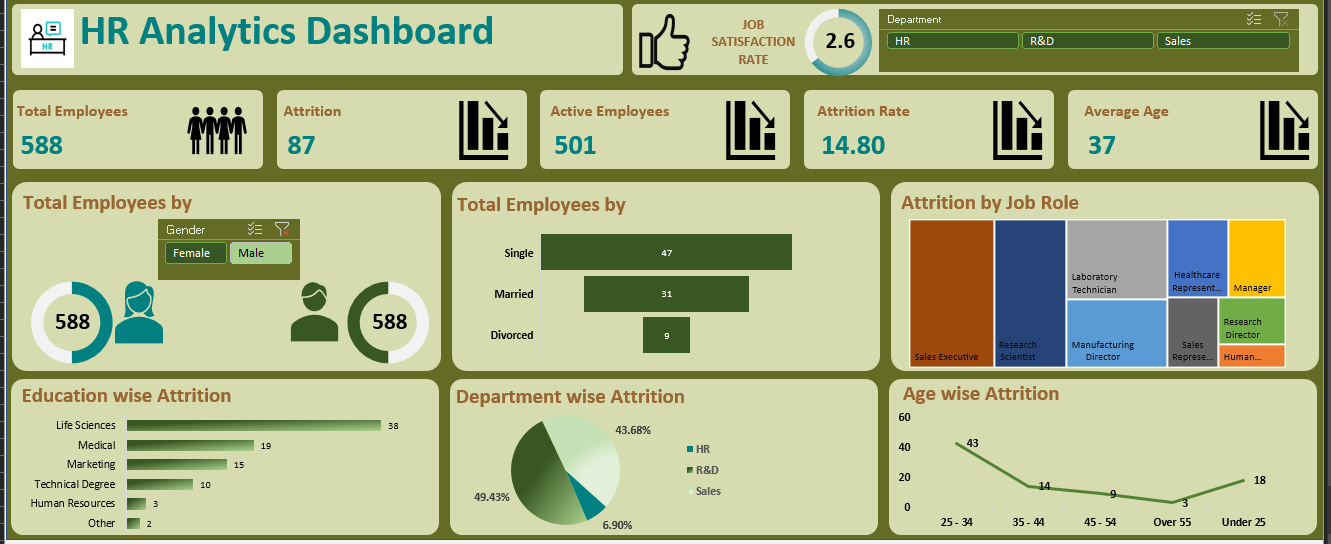

The dashboard page shown, as its layout file describes it:
{"tool":"powerbi","page":{"name":"Page 1","canvas":[1280,720],"ordinal":0},"visuals":[{"type":"shape","box":[0,84.4,250,128.8],"z":0,"group":"g2"},{"type":"shape","box":[426.8,471.1,853.2,248.9],"z":0},{"type":"shape","box":[0,0,1280.6,720.8],"z":1000},{"type":"shape","box":[257.5,84.4,250,128.8],"z":1000,"group":"g2"},{"type":"shape","box":[4.3,4.3,591.5,70.2],"z":2000},{"type":"shape","box":[515,85.4,250,126.9],"z":2000,"group":"g2"},{"type":"shape","box":[0,221.3,419.3,238.3],"z":2000,"group":"g1"},{"type":"shape","box":[773.1,86.3,250,126.9],"z":3000,"group":"g2"},{"type":"shape","box":[0,470.2,419.1,248.9],"z":3000},{"type":"group","id":"g1","title":"Group 2","box":[0,221.3,1280.9,238.3],"z":4000},{"type":"shape","box":[432.2,221.3,417.3,238.3],"z":4000,"group":"g1"},{"type":"shape","box":[861.4,221.3,419.4,238.3],"z":5000,"group":"g1"},{"type":"shape","box":[425.5,470.2,853.2,248.9],"z":5000},{"type":"textbox","box":[0,0.8,610.6,70.2],"z":6000},{"type":"group","id":"g2","title":"Group 1","box":[0,84.4,1280,128.8],"z":7000},{"type":"card","fields":{"Values":["allmeasures.Overall Employees"]},"box":[28.8,123,192.3,90.4],"z":7000,"group":"g3"},{"type":"card","fields":{"Values":["allmeasures.Attrition"]},"box":[286.5,123,192.3,90.4],"z":7000,"group":"g4"},{"type":"card","fields":{"Values":["allmeasures.Attrition Rate"]},"box":[546.2,124.8,201.9,90.4],"z":7000,"group":"g5"},{"type":"card","fields":{"Values":["allmeasures.Active Employee"]},"box":[803.8,124.8,192.3,90.4],"z":7000,"group":"g6"},{"type":"card","fields":{"Values":["allmeasures.Average Age"]},"box":[1058.1,124.8,192.3,90.4],"z":7000,"group":"g7"},{"type":"shape","box":[1030,86.3,250,126.9],"z":7001,"group":"g2"},{"type":"group","id":"g3","title":"Group 3","box":[0,86.5,250,126.9],"z":8000},{"type":"textbox","box":[0,86.5,250,51.9],"z":8000,"group":"g3"},{"type":"textbox","box":[257.7,86.5,250,51.9],"z":8000,"group":"g4"},{"type":"textbox","box":[515.4,88.3,250,51.9],"z":8000,"group":"g5"},{"type":"textbox","box":[775,88.3,250,51.9],"z":8000,"group":"g6"},{"type":"textbox","box":[1029.3,88.3,250,51.9],"z":8000,"group":"g7"},{"type":"group","id":"g4","title":"Group 3","box":[257.7,86.5,250,126.9],"z":9000},{"type":"textbox","box":[444.4,222.9,395.7,54.1],"z":9000,"group":"g8"},{"type":"textbox","box":[862.1,224.1,299,53.7],"z":9000,"group":"g9"},{"type":"textbox","box":[22.2,470.6,361.2,53.1],"z":9000,"group":"g10"},{"type":"textbox","box":[422.9,502.1,184.7,51.4],"z":9000,"group":"g11"},{"type":"textbox","box":[590.5,502.1,184.7,51.4],"z":9000,"group":"g12"},{"type":"textbox","box":[758,503.5,184.7,51.4],"z":9000,"group":"g13"},{"type":"textbox","box":[925.6,503.5,184.7,51.4],"z":9000,"group":"g14"},{"type":"textbox","box":[1092.9,509.4,184.7,51.4],"z":9000,"group":"g15"},{"type":"group","id":"g5","title":"Group 3","box":[515.4,88.3,250,126.9],"z":10000},{"type":"textbox","box":[9.8,223.5,396.1,54.9],"z":11000},{"type":"group","id":"g6","title":"Group 3","box":[775,88.3,250,126.9],"z":12000},{"type":"group","id":"g7","title":"Group 3","box":[1029.3,88.3,250,126.9],"z":13000},{"type":"pivotTable","fields":{"Rows":["HR Data xlsx - HR data.Job Role"],"Columns":["HR Data xlsx - HR data.Job Satisfaction"],"Values":["Sum(HR Data xlsx - HR data.Job Satisfaction)"]},"box":[869.4,255.1,409.9,203.5],"z":13000,"group":"g9"},{"type":"columnChart","fields":{"Category":["HR Data xlsx - HR data.CF_age band"],"Y":["allmeasures.Overall Employees"],"Series":["HR Data xlsx - HR data.Gender"]},"box":[444.4,268.6,410.9,191.1],"z":13000,"group":"g8"},{"type":"barChart","fields":{"Category":["HR Data xlsx - HR data.Education Field"],"Y":["allmeasures.Attrition"]},"box":[6.1,508.2,414.3,208.2],"z":13000,"group":"g10"},{"type":"donutChart","fields":{"Category":["HR Data xlsx - HR data.Gender"],"Y":["allmeasures.Attrition"]},"box":[427,545.8,180.4,168.6],"z":13000,"group":"g11"},{"type":"donutChart","fields":{"Category":["HR Data xlsx - HR data.Gender"],"Y":["allmeasures.Attrition"]},"box":[594.6,545.8,180.4,168.6],"z":13000,"group":"g12"},{"type":"donutChart","fields":{"Category":["HR Data xlsx - HR data.Gender"],"Y":["allmeasures.Attrition"]},"box":[762.1,545.8,180.4,168.6],"z":13000,"group":"g13"},{"type":"donutChart","fields":{"Category":["HR Data xlsx - HR data.Gender"],"Y":["allmeasures.Attrition"]},"box":[929.7,545.8,180.4,168.6],"z":13000,"group":"g14"},{"type":"donutChart","fields":{"Category":["HR Data xlsx - HR data.Gender"],"Y":["allmeasures.Attrition"]},"box":[1097,551.7,180.4,168.6],"z":13000,"group":"g15"},{"type":"group","id":"g8","title":"Group 4","box":[444.4,222.9,410.9,236.7],"z":14000},{"type":"pieChart","fields":{"Y":["allmeasures.Attrition"],"Category":["HR Data xlsx - HR data.Department"]},"box":[5.9,251,413.7,207.8],"z":15000},{"type":"group","id":"g9","title":"Group 4","box":[862.1,224.1,417.2,234.5],"z":16000},{"type":"group","id":"g10","title":"Group 4","box":[6.1,470.6,414.3,245.8],"z":17000},{"type":"group","id":"g11","title":"Group 5","box":[422.9,502.1,184.7,212.3],"z":18000,"group":"g16"},{"type":"group","id":"g12","title":"Group 5","box":[590.5,502.1,184.7,212.3],"z":19000,"group":"g16"},{"type":"card","fields":{"Values":["allmeasures.Attrition"]},"box":[467.4,588.1,96.1,76.5],"z":19000,"group":"g11"},{"type":"card","fields":{"Values":["allmeasures.Attrition"]},"box":[635,588.1,96.1,76.5],"z":19000,"group":"g12"},{"type":"card","fields":{"Values":["allmeasures.Attrition"]},"box":[802.5,588.1,96.1,76.5],"z":19000,"group":"g13"},{"type":"card","fields":{"Values":["allmeasures.Attrition"]},"box":[970.1,588.1,96.1,76.5],"z":19000,"group":"g14"},{"type":"card","fields":{"Values":["allmeasures.Attrition"]},"box":[1137.4,594,96.1,76.5],"z":19000,"group":"g15"},{"type":"group","id":"g13","title":"Group 5","box":[758,503.5,184.7,210.9],"z":20000,"group":"g16"},{"type":"group","id":"g14","title":"Group 5","box":[925.6,503.5,184.7,210.9],"z":21000,"group":"g16"},{"type":"group","id":"g15","title":"Group 5","box":[1092.9,509.4,184.7,210.9],"z":22000,"group":"g16"},{"type":"group","id":"g16","title":"Group 6","box":[422.9,502.1,854.7,218.2],"z":22001},{"type":"textbox","box":[563.5,467.3,563.5,55.8],"z":22002},{"type":"slicer","fields":{"Values":["HR Data xlsx - HR data.Education"]},"box":[611.5,1.9,661.5,70],"z":22003}]}

Visuals, with their boxes on the page's 1280x720 design canvas (x1, y1, x2, y2). These are canvas units, not pixel positions in the 1331x544 screenshot, which may show the page scaled, cropped or inside an application window:
shape: pyautogui.locateOnScreen(0, 84, 250, 213)
shape: pyautogui.locateOnScreen(427, 471, 1280, 720)
shape: pyautogui.locateOnScreen(0, 0, 1281, 721)
shape: pyautogui.locateOnScreen(258, 84, 508, 213)
shape: pyautogui.locateOnScreen(4, 4, 596, 74)
shape: pyautogui.locateOnScreen(515, 85, 765, 212)
shape: pyautogui.locateOnScreen(0, 221, 419, 460)
shape: pyautogui.locateOnScreen(773, 86, 1023, 213)
shape: pyautogui.locateOnScreen(0, 470, 419, 719)
"Group 2" group: pyautogui.locateOnScreen(0, 221, 1281, 460)
shape: pyautogui.locateOnScreen(432, 221, 850, 460)
shape: pyautogui.locateOnScreen(861, 221, 1281, 460)
shape: pyautogui.locateOnScreen(426, 470, 1279, 719)
textbox: pyautogui.locateOnScreen(0, 1, 611, 71)
"Group 1" group: pyautogui.locateOnScreen(0, 84, 1280, 213)
card - allmeasures.Overall Employees: pyautogui.locateOnScreen(29, 123, 221, 213)
card - allmeasures.Attrition: pyautogui.locateOnScreen(286, 123, 479, 213)
card - allmeasures.Attrition Rate: pyautogui.locateOnScreen(546, 125, 748, 215)
card - allmeasures.Active Employee: pyautogui.locateOnScreen(804, 125, 996, 215)
card - allmeasures.Average Age: pyautogui.locateOnScreen(1058, 125, 1250, 215)
shape: pyautogui.locateOnScreen(1030, 86, 1280, 213)
"Group 3" group: pyautogui.locateOnScreen(0, 86, 250, 213)
textbox: pyautogui.locateOnScreen(0, 86, 250, 138)
textbox: pyautogui.locateOnScreen(258, 86, 508, 138)
textbox: pyautogui.locateOnScreen(515, 88, 765, 140)
textbox: pyautogui.locateOnScreen(775, 88, 1025, 140)
textbox: pyautogui.locateOnScreen(1029, 88, 1279, 140)
"Group 3" group: pyautogui.locateOnScreen(258, 86, 508, 213)
textbox: pyautogui.locateOnScreen(444, 223, 840, 277)
textbox: pyautogui.locateOnScreen(862, 224, 1161, 278)
textbox: pyautogui.locateOnScreen(22, 471, 383, 524)
textbox: pyautogui.locateOnScreen(423, 502, 608, 554)
textbox: pyautogui.locateOnScreen(590, 502, 775, 554)
textbox: pyautogui.locateOnScreen(758, 504, 943, 555)
textbox: pyautogui.locateOnScreen(926, 504, 1110, 555)
textbox: pyautogui.locateOnScreen(1093, 509, 1278, 561)
"Group 3" group: pyautogui.locateOnScreen(515, 88, 765, 215)
textbox: pyautogui.locateOnScreen(10, 224, 406, 278)
"Group 3" group: pyautogui.locateOnScreen(775, 88, 1025, 215)
"Group 3" group: pyautogui.locateOnScreen(1029, 88, 1279, 215)
pivotTable - HR Data xlsx - HR data.Job Role x HR Data xlsx - HR data.Job Satisfaction: pyautogui.locateOnScreen(869, 255, 1279, 459)
columnChart - HR Data xlsx - HR data.CF_age band x allmeasures.Overall Employees: pyautogui.locateOnScreen(444, 269, 855, 460)
barChart - HR Data xlsx - HR data.Education Field x allmeasures.Attrition: pyautogui.locateOnScreen(6, 508, 420, 716)
donutChart - HR Data xlsx - HR data.Gender x allmeasures.Attrition: pyautogui.locateOnScreen(427, 546, 607, 714)
donutChart - HR Data xlsx - HR data.Gender x allmeasures.Attrition: pyautogui.locateOnScreen(595, 546, 775, 714)
donutChart - HR Data xlsx - HR data.Gender x allmeasures.Attrition: pyautogui.locateOnScreen(762, 546, 942, 714)
donutChart - HR Data xlsx - HR data.Gender x allmeasures.Attrition: pyautogui.locateOnScreen(930, 546, 1110, 714)
donutChart - HR Data xlsx - HR data.Gender x allmeasures.Attrition: pyautogui.locateOnScreen(1097, 552, 1277, 720)
"Group 4" group: pyautogui.locateOnScreen(444, 223, 855, 460)
pieChart - allmeasures.Attrition x HR Data xlsx - HR data.Department: pyautogui.locateOnScreen(6, 251, 420, 459)
"Group 4" group: pyautogui.locateOnScreen(862, 224, 1279, 459)
"Group 4" group: pyautogui.locateOnScreen(6, 471, 420, 716)
"Group 5" group: pyautogui.locateOnScreen(423, 502, 608, 714)
"Group 5" group: pyautogui.locateOnScreen(590, 502, 775, 714)
card - allmeasures.Attrition: pyautogui.locateOnScreen(467, 588, 564, 665)
card - allmeasures.Attrition: pyautogui.locateOnScreen(635, 588, 731, 665)
card - allmeasures.Attrition: pyautogui.locateOnScreen(802, 588, 899, 665)
card - allmeasures.Attrition: pyautogui.locateOnScreen(970, 588, 1066, 665)
card - allmeasures.Attrition: pyautogui.locateOnScreen(1137, 594, 1234, 670)
"Group 5" group: pyautogui.locateOnScreen(758, 504, 943, 714)
"Group 5" group: pyautogui.locateOnScreen(926, 504, 1110, 714)
"Group 5" group: pyautogui.locateOnScreen(1093, 509, 1278, 720)
"Group 6" group: pyautogui.locateOnScreen(423, 502, 1278, 720)
textbox: pyautogui.locateOnScreen(564, 467, 1127, 523)
slicer - HR Data xlsx - HR data.Education: pyautogui.locateOnScreen(612, 2, 1273, 72)
